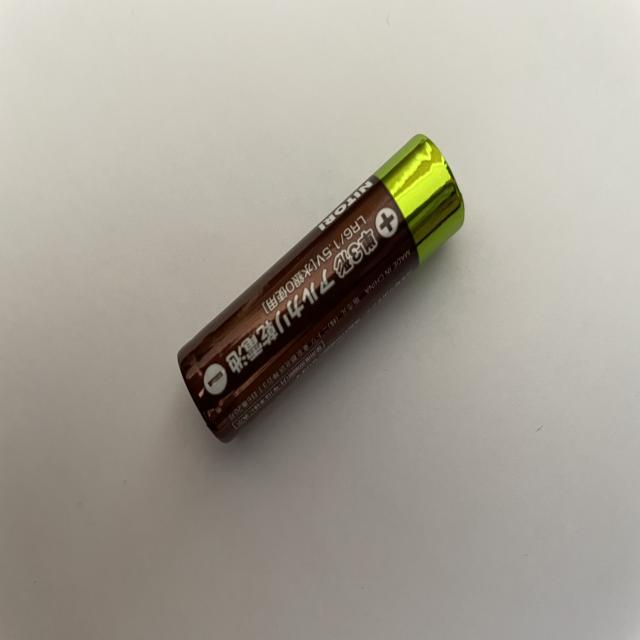hazardous waste: (175, 129, 468, 442)
